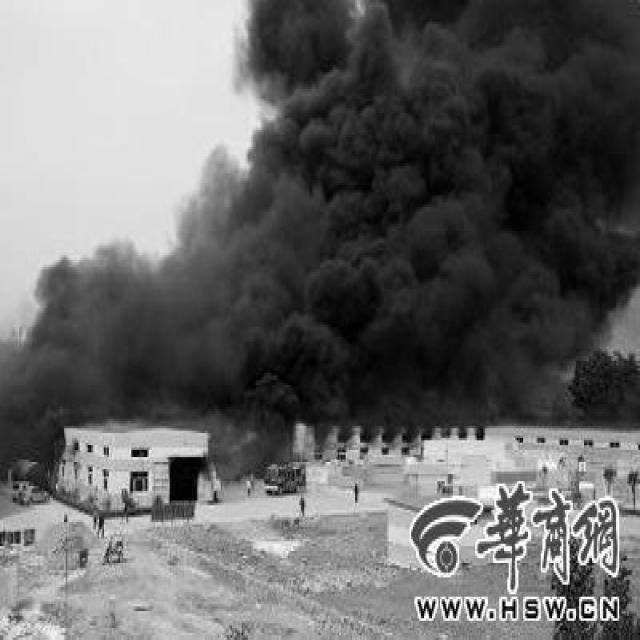Smoke: (1, 2, 640, 481)
